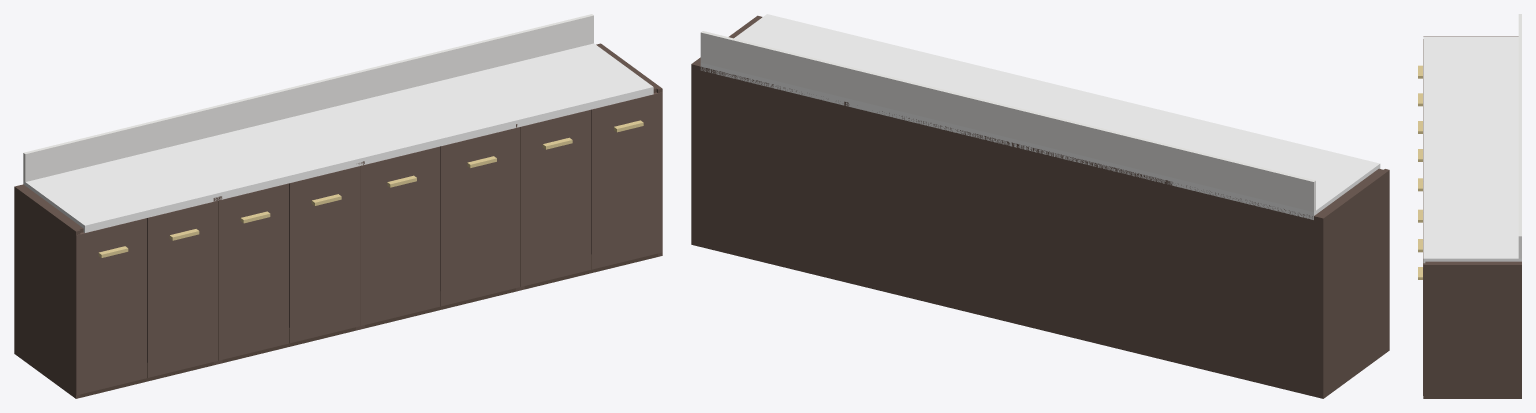
The picture shows the model from 3 angles, left to right: view 1: azimuth 30°, elevation 25°; view 2: azimuth 150°, elevation 25°; view 3: azimuth 270°, elevation 25°; orthographic projection. The views are drawn at different scales.
Parts seen in each view (by area): view 1: Countertop, Backsplash, Lower_Cabinet_Sink_Door_Left, Lower_Cabinet_Sink_Door_Right, Lower_Cabinet_4_Door_Left, Lower_Cabinet_2_Door_Right, Lower_Cabinet_4_Door_Right, Lower_Cabinet_1_Door_Left, Lower_Cabinet_1_Door_Right, Lower_Cabinet_2_Door_Left, Lower_Cabinet_1_Left_Side, Lower_Cabinet_Sink_Toe_Kick (+3 smaller); view 2: Lower_Cabinet_Sink_Back, Lower_Cabinet_2_Back, Lower_Cabinet_1_Back, Lower_Cabinet_4_Back, Countertop, Backsplash, Lower_Cabinet_1_Left_Side, Lower_Cabinet_Sink_Right_Side, Lower_Cabinet_4_Right_Side, Lower_Cabinet_4_Left_Side, Lower_Cabinet_1_Right_Side, Lower_Cabinet_2_Left_Side; view 3: Countertop, Lower_Cabinet_4_Right_Side, Backsplash, Lower_Cabinet_4_Back, Lower_Cabinet_4_Top, Lower_Cabinet_4_Door_Right.
Part boxes in pixels (box(x1,y1,x2,y2)): Countertop: box(23, 43, 653, 232); Backsplash: box(23, 14, 593, 181); Lower_Cabinet_Sink_Door_Left: box(361, 146, 440, 325); Lower_Cabinet_Sink_Door_Right: box(440, 127, 519, 306); Lower_Cabinet_4_Door_Left: box(520, 109, 591, 286); Lower_Cabinet_2_Door_Right: box(289, 166, 360, 343); Lower_Cabinet_4_Door_Right: box(591, 92, 662, 269); Lower_Cabinet_1_Door_Left: box(76, 218, 146, 395); Lower_Cabinet_1_Door_Right: box(147, 200, 217, 377); Lower_Cabinet_2_Door_Left: box(218, 183, 288, 360); Lower_Cabinet_1_Left_Side: box(14, 185, 80, 398); Lower_Cabinet_Sink_Toe_Kick: box(365, 288, 515, 328); Lower_Cabinet_Sink_Back: box(845, 107, 1016, 323); Lower_Cabinet_2_Back: box(1017, 144, 1170, 361); Lower_Cabinet_1_Back: box(1170, 183, 1326, 398); Lower_Cabinet_4_Back: box(691, 62, 843, 280); Countertop: box(700, 14, 1380, 219); Backsplash: box(700, 31, 1315, 211); Lower_Cabinet_1_Left_Side: box(1318, 169, 1389, 398); Lower_Cabinet_Sink_Right_Side: box(844, 101, 849, 282); Lower_Cabinet_4_Right_Side: box(691, 15, 762, 245); Lower_Cabinet_4_Left_Side: box(839, 104, 844, 281); Lower_Cabinet_1_Right_Side: box(1170, 181, 1174, 362); Lower_Cabinet_2_Left_Side: box(1165, 180, 1170, 361); Countertop: box(1423, 36, 1521, 263); Lower_Cabinet_4_Right_Side: box(1423, 263, 1521, 398); Backsplash: box(1518, 14, 1521, 258); Lower_Cabinet_4_Back: box(1518, 261, 1521, 398); Lower_Cabinet_4_Top: box(1425, 261, 1519, 263); Lower_Cabinet_4_Door_Right: box(1423, 240, 1423, 395).
Bounding box in the file's own units: 3.3 × 1.07 × 0.6325.
